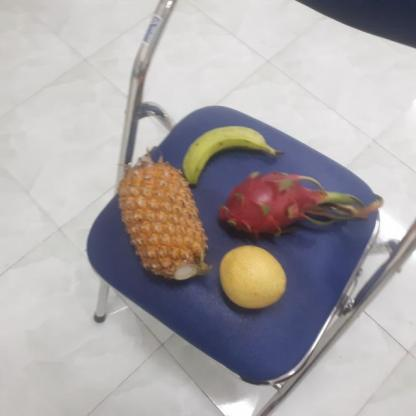banana: (176, 124, 265, 186)
pear: (218, 246, 289, 310)
pineapple: (113, 164, 213, 281)
pitaya: (214, 172, 320, 245)
